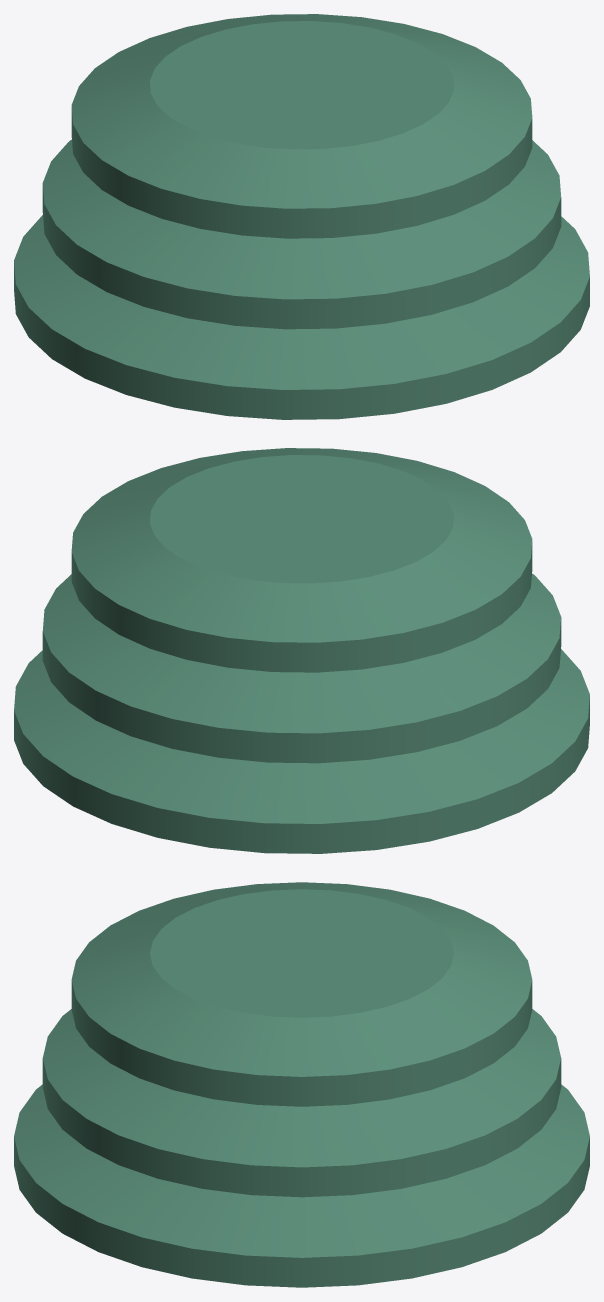
The picture shows the model from 3 angles, top to bottom: view 1: azimuth 30°, elevation 25°; view 2: azimuth 150°, elevation 25°; view 3: azimuth 270°, elevation 25°; orthographic projection.
Parts seen in each view (by area): view 1: Terraced oval hull.002, Terraced oval hull, Terraced oval hull.001; view 2: Terraced oval hull.002, Terraced oval hull, Terraced oval hull.001; view 3: Terraced oval hull.002, Terraced oval hull, Terraced oval hull.001.
Part boxes in pixels (<box>): Terraced oval hull.002: <box>71,14,532,238</box>; Terraced oval hull: <box>14,215,589,419</box>; Terraced oval hull.001: <box>42,139,561,329</box>; Terraced oval hull.002: <box>71,448,532,672</box>; Terraced oval hull: <box>14,649,589,853</box>; Terraced oval hull.001: <box>42,573,561,763</box>; Terraced oval hull.002: <box>71,882,532,1106</box>; Terraced oval hull: <box>14,1084,589,1287</box>; Terraced oval hull.001: <box>42,1009,561,1197</box>.
Size of the model in its own units: 2.8 by 1.24 by 2.8.
